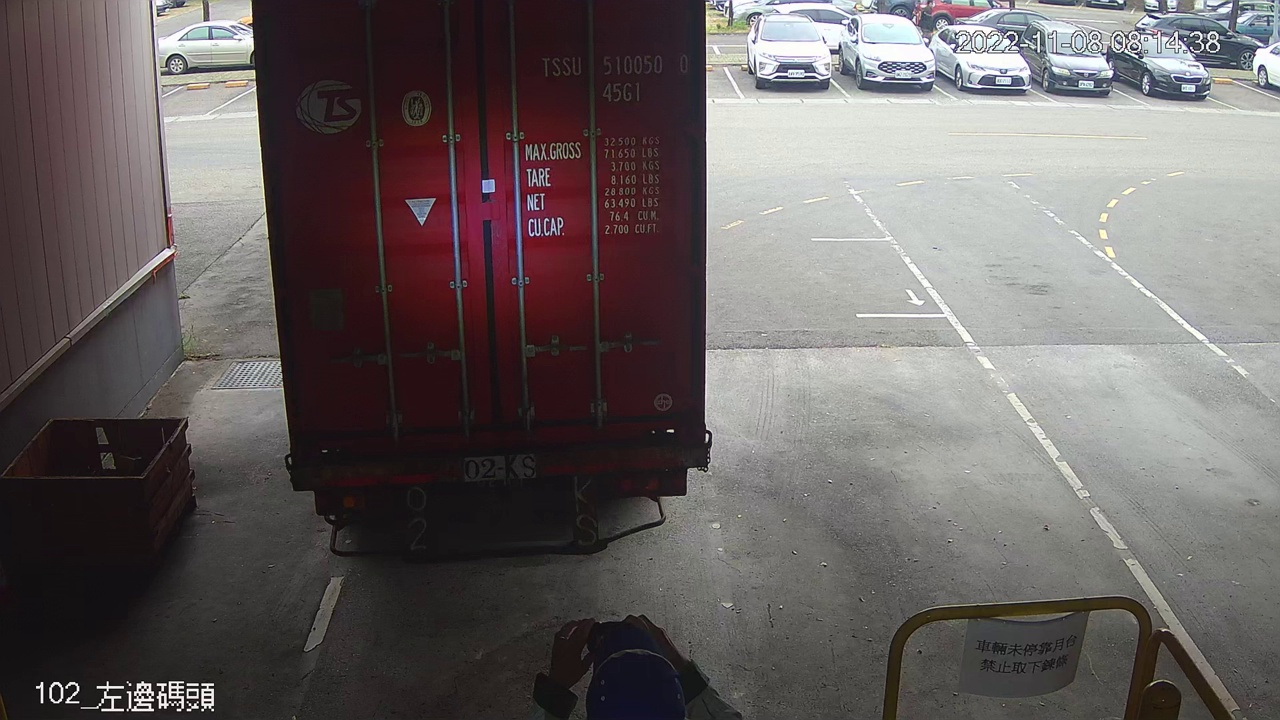container: (532, 46, 693, 109)
